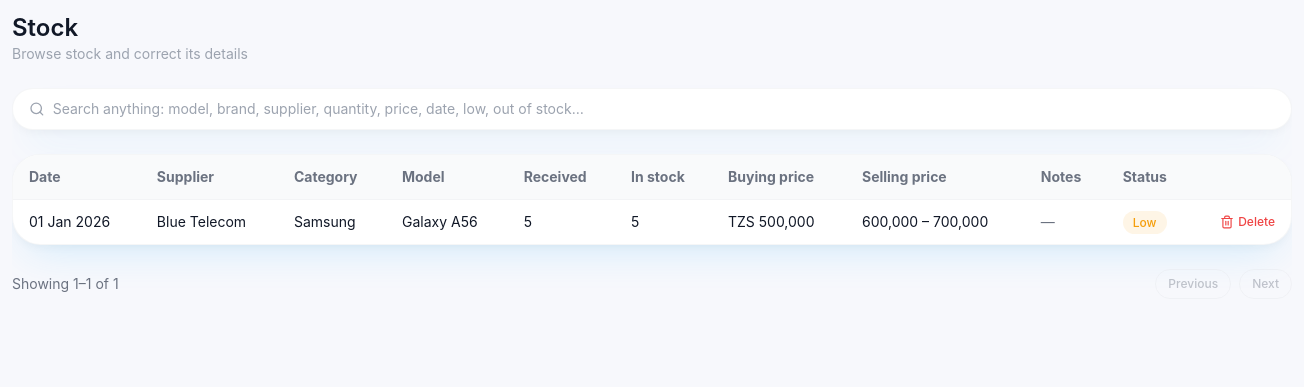
Test: StockPage recent stock table › shows the server's error when a delete is rejected (e.g. already sold)
This screenshot has width=1304, height=387.
Click the button "Delete" at point(1248, 222), box [1220, 214, 1275, 230]
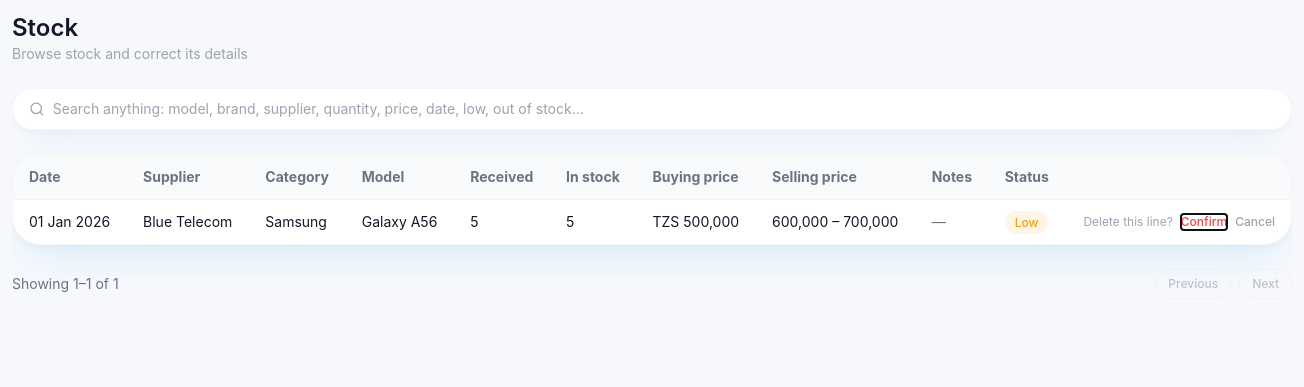
Click the button "Confirm" at point(1204, 222), box [1181, 214, 1227, 230]
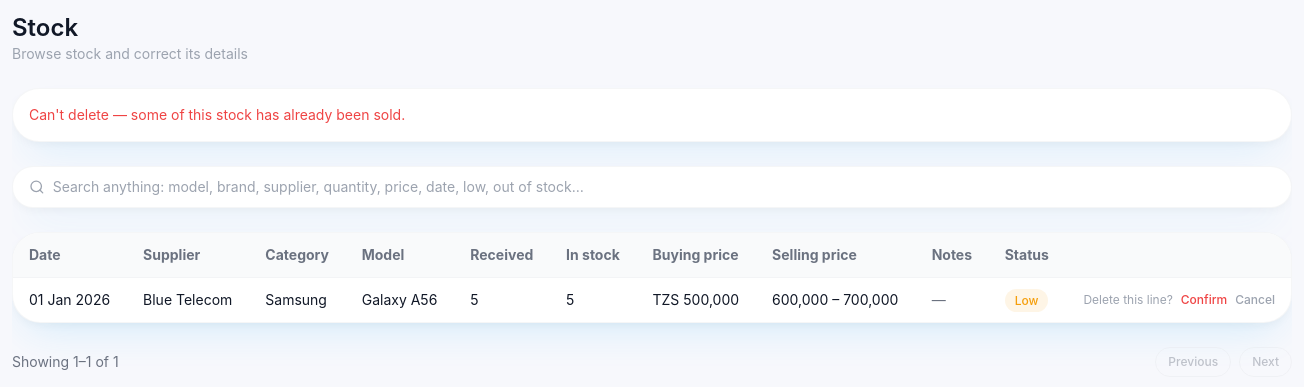
Result: the text "Can't delete — some of this stock has already been sold." is shown at [12, 88, 1292, 142]
